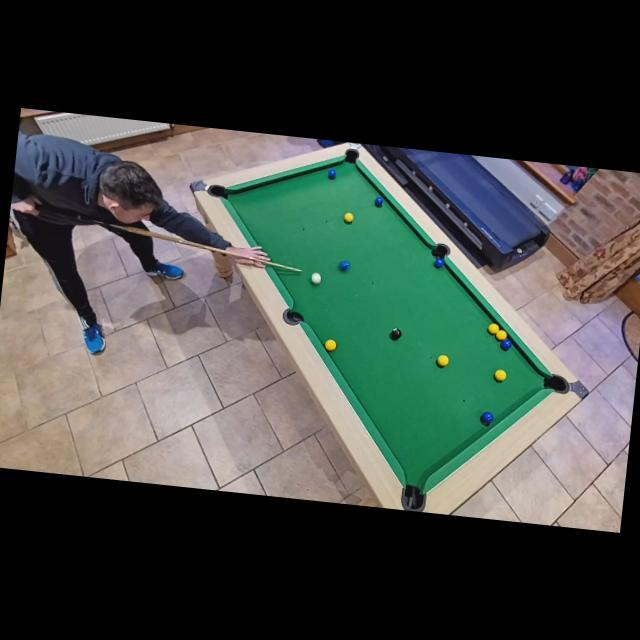Ball: (480, 411, 493, 425), (499, 338, 512, 351), (488, 323, 500, 335), (436, 354, 448, 366), (432, 257, 444, 269), (389, 327, 401, 339), (338, 260, 349, 272), (496, 331, 506, 343), (324, 340, 336, 350), (494, 370, 506, 380), (343, 211, 353, 222), (312, 273, 322, 284), (328, 168, 338, 178), (374, 196, 383, 207)
